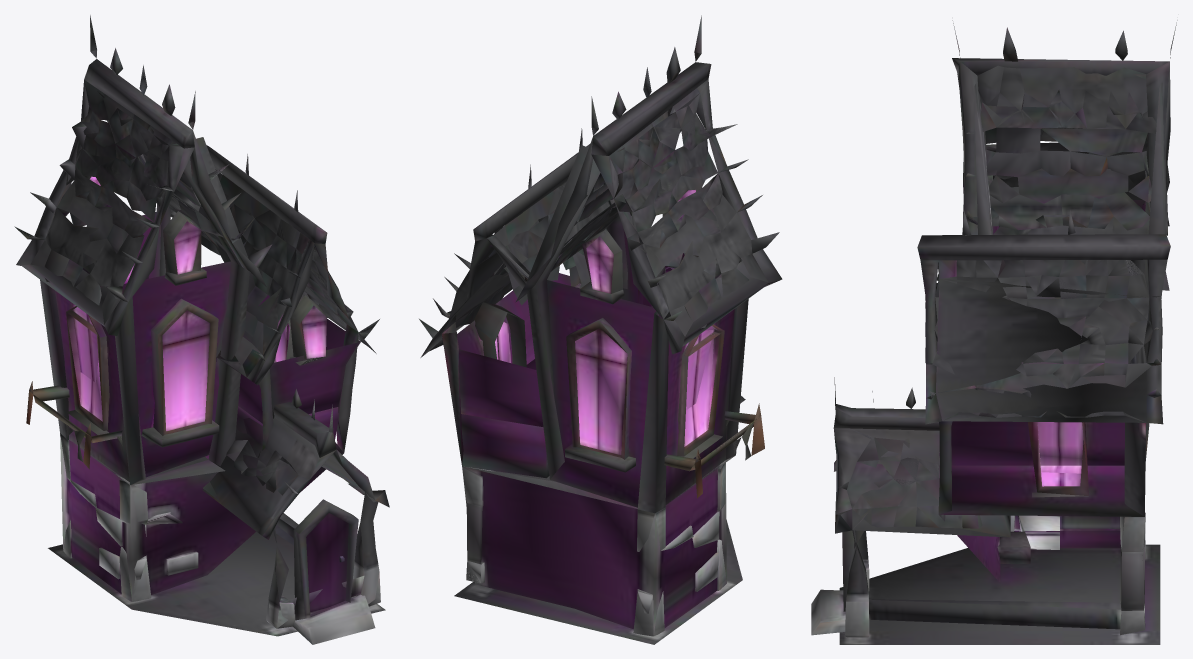
Rendered from mansion_casa.glb.
3 renders of one model, left to right at view 1: azimuth 30°, elevation 25°; view 2: azimuth 150°, elevation 25°; view 3: azimuth 270°, elevation 25°, orthographic. The views are drawn at different scales.
Visible parts, largest first — view 1: tripo_node_f345a944-369c-4bda-b5e1-b1fc644456cd; view 2: tripo_node_f345a944-369c-4bda-b5e1-b1fc644456cd; view 3: tripo_node_f345a944-369c-4bda-b5e1-b1fc644456cd.
Boxes of the visible parts, x1,y1,x2,y2 form: tripo_node_f345a944-369c-4bda-b5e1-b1fc644456cd: [14, 15, 389, 644]; tripo_node_f345a944-369c-4bda-b5e1-b1fc644456cd: [419, 15, 782, 644]; tripo_node_f345a944-369c-4bda-b5e1-b1fc644456cd: [811, 20, 1177, 644].
Bounding box in the file's own units: 0.5129 × 0.9854 × 0.5835.
1 material, 1 textured.
